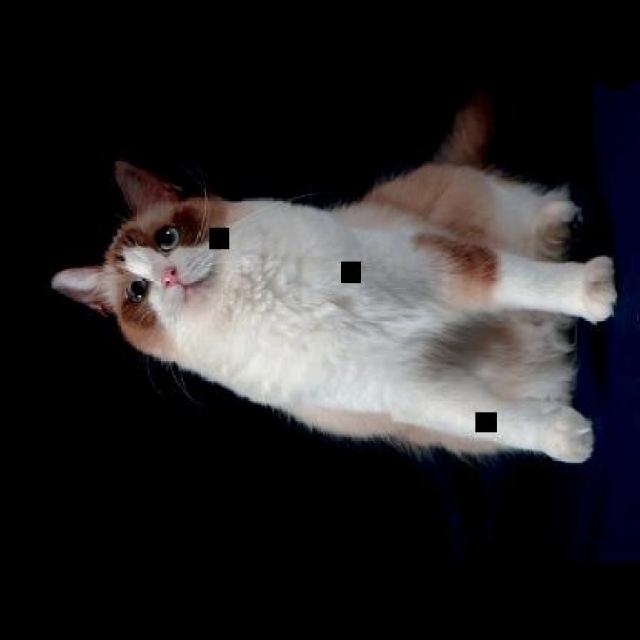unauthorized: (49, 97, 617, 465)
